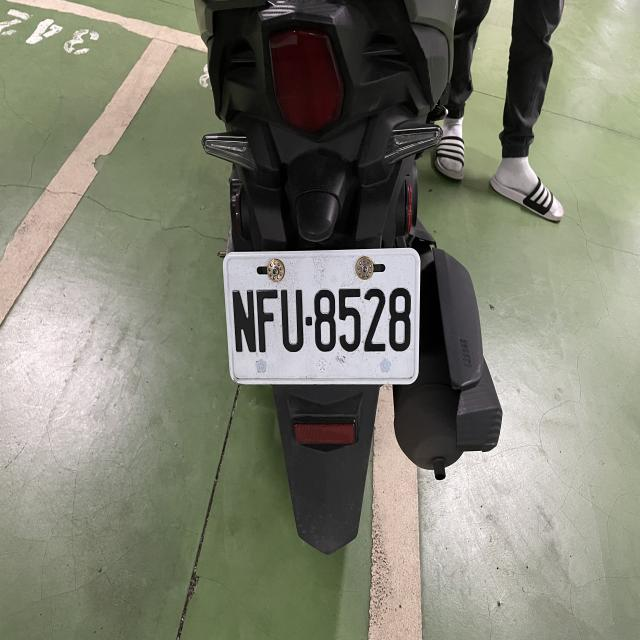license-plate: (222, 246, 422, 385)
